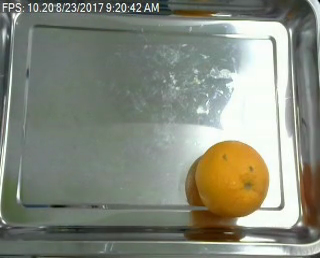Orange: (194, 139, 269, 217)
